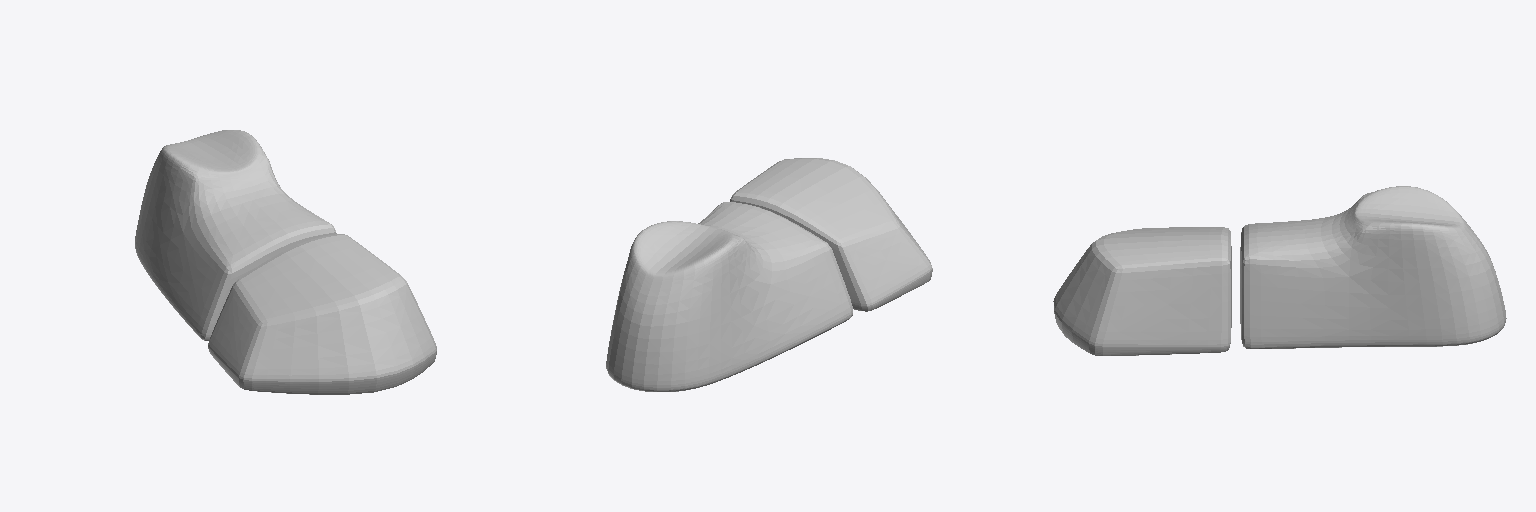
The model's file is FootR.obj.
3 renders of one model, left to right at view 1: azimuth 30°, elevation 25°; view 2: azimuth 150°, elevation 25°; view 3: azimuth 270°, elevation 25°, orthographic.
Visible parts, largest first — view 1: GEO-Body.016_Body.016; view 2: GEO-Body.016_Body.016; view 3: GEO-Body.016_Body.016.
Boxes of the visible parts, x1=… form: GEO-Body.016_Body.016: x1=135, y1=130, x2=436, y2=394; GEO-Body.016_Body.016: x1=606, y1=158, x2=932, y2=391; GEO-Body.016_Body.016: x1=1053, y1=186, x2=1506, y2=355.
Bounding box in the file's own units: 0.112 × 0.0716 × 0.245.